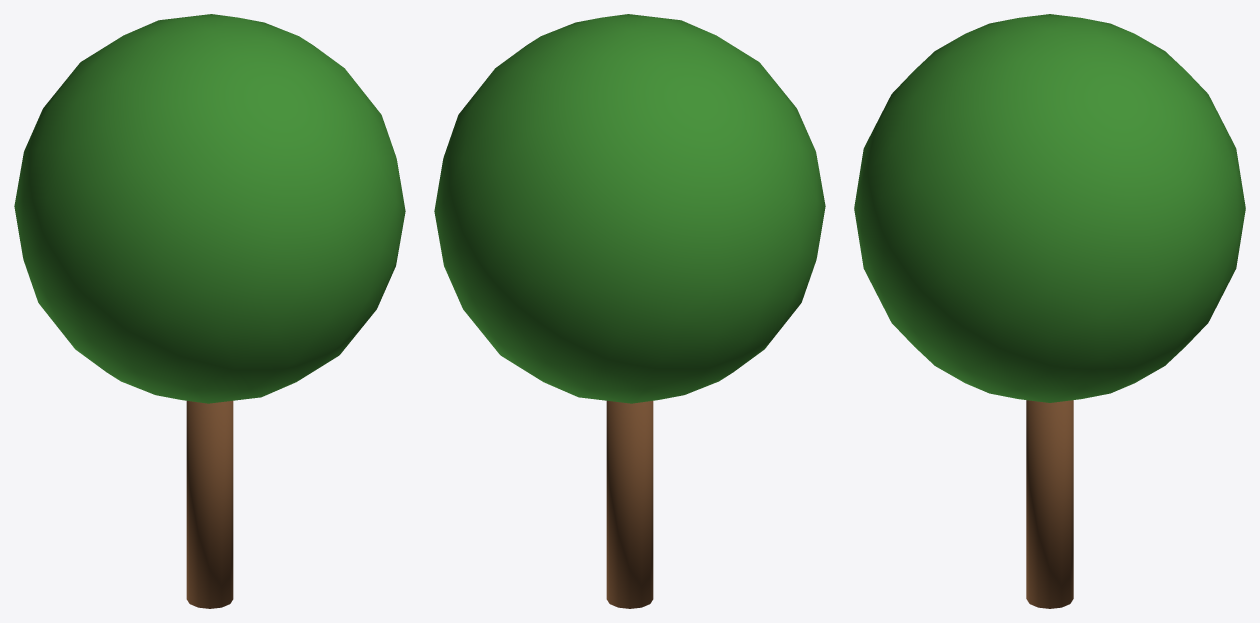
Rendered from arbol.dae.
3 renders of one model, left to right at view 1: azimuth 30°, elevation 25°; view 2: azimuth 150°, elevation 25°; view 3: azimuth 270°, elevation 25°, orthographic.
Parts seen in each view (by area): view 1: arbol (×2); view 2: arbol (×2); view 3: arbol (×2).
Part boxes in pixels (x1,y1,x2,y2): arbol (×2): (14,14,405,608); arbol (×2): (434,14,825,608); arbol (×2): (854,14,1245,608).
Size of the model in its own units: 98.43 by 98.43 by 157.
